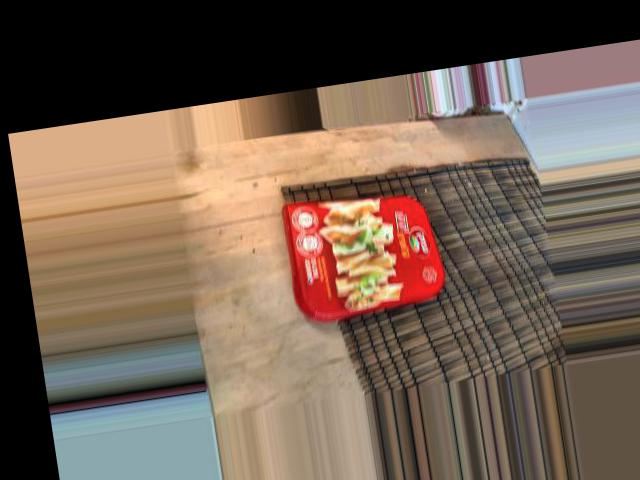cheese: (269, 185, 448, 319)
